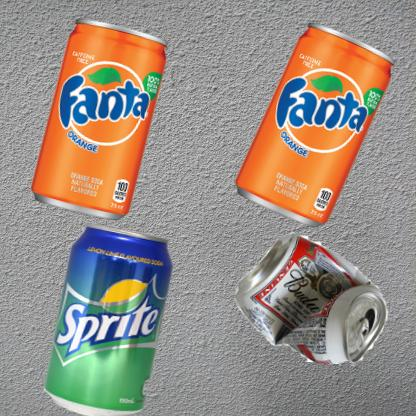lata: (213, 10, 416, 281), (10, 10, 204, 249), (10, 213, 215, 416), (213, 213, 416, 373)
